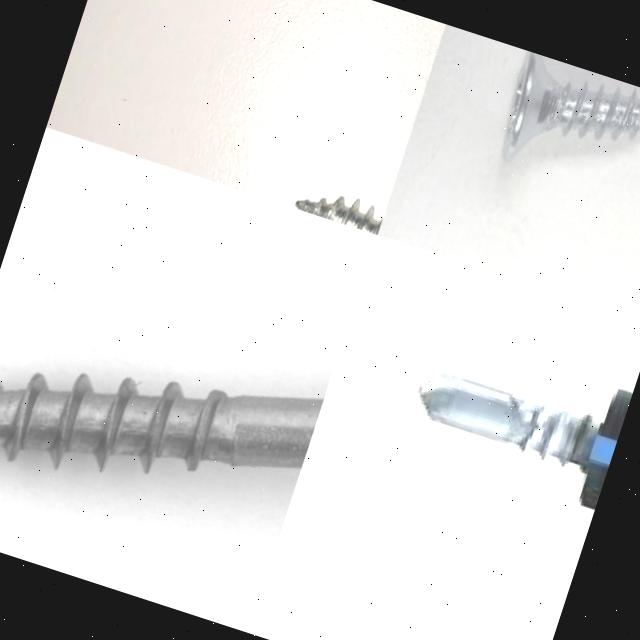Screw: (0, 174, 363, 580), (416, 372, 634, 513), (490, 51, 640, 211), (296, 196, 384, 235)
